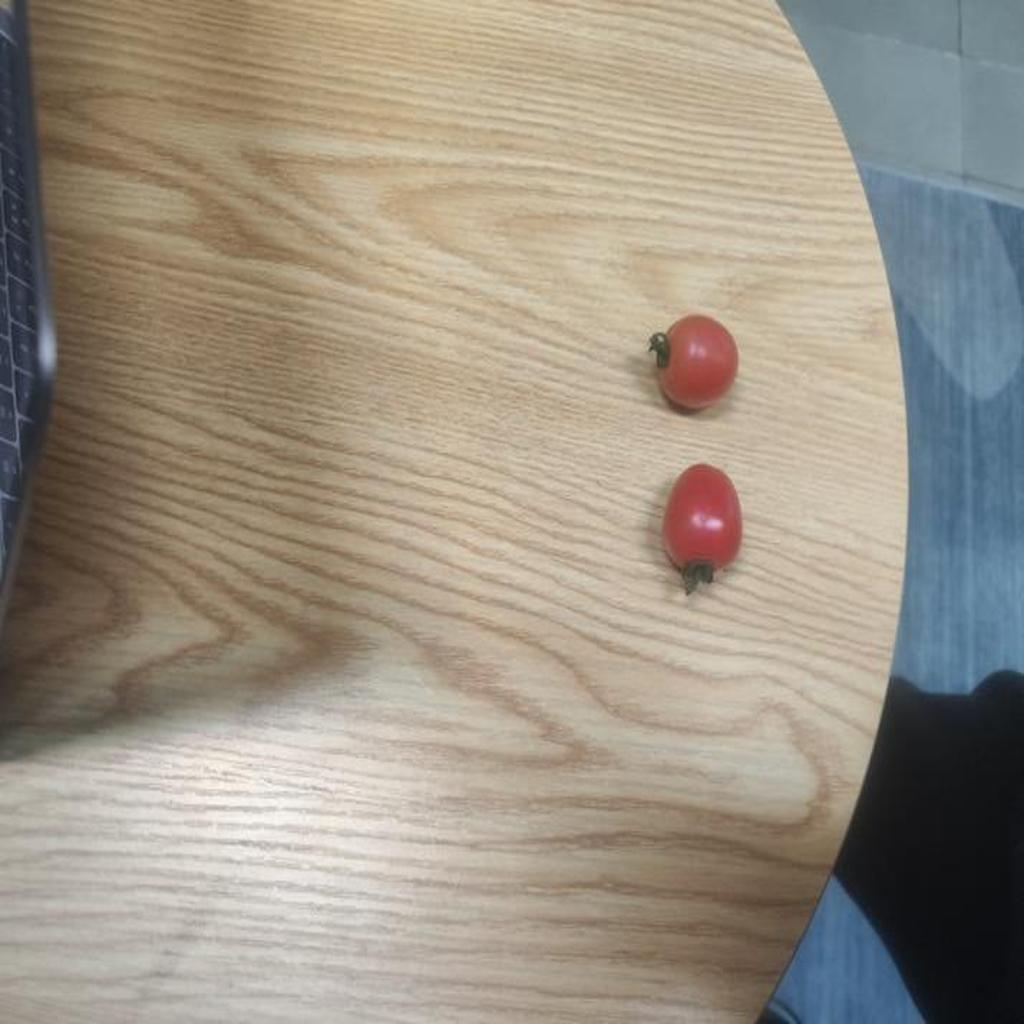tomato: (659, 463, 746, 584), (652, 313, 742, 416)
